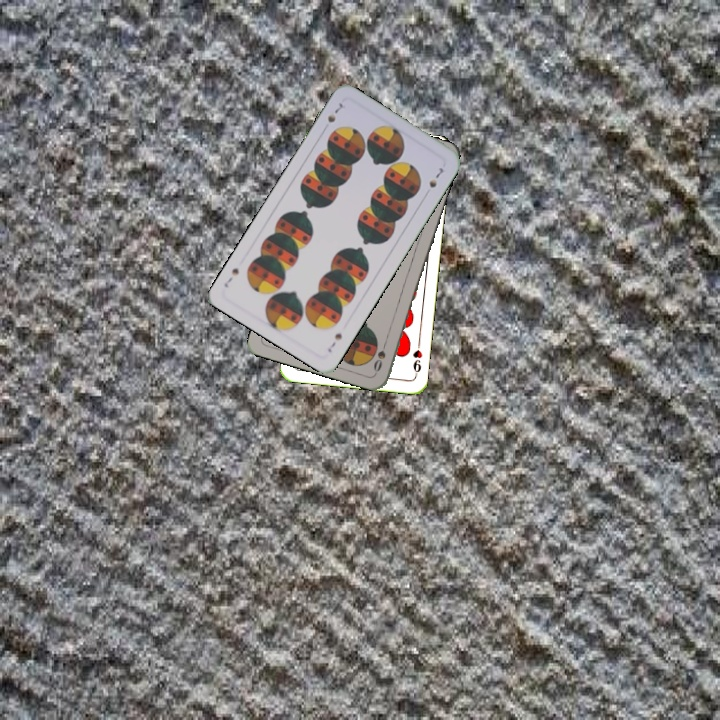H9: (409, 338, 425, 378)
S7: (323, 98, 346, 125), (323, 329, 345, 355)
SO: (369, 335, 390, 375)
